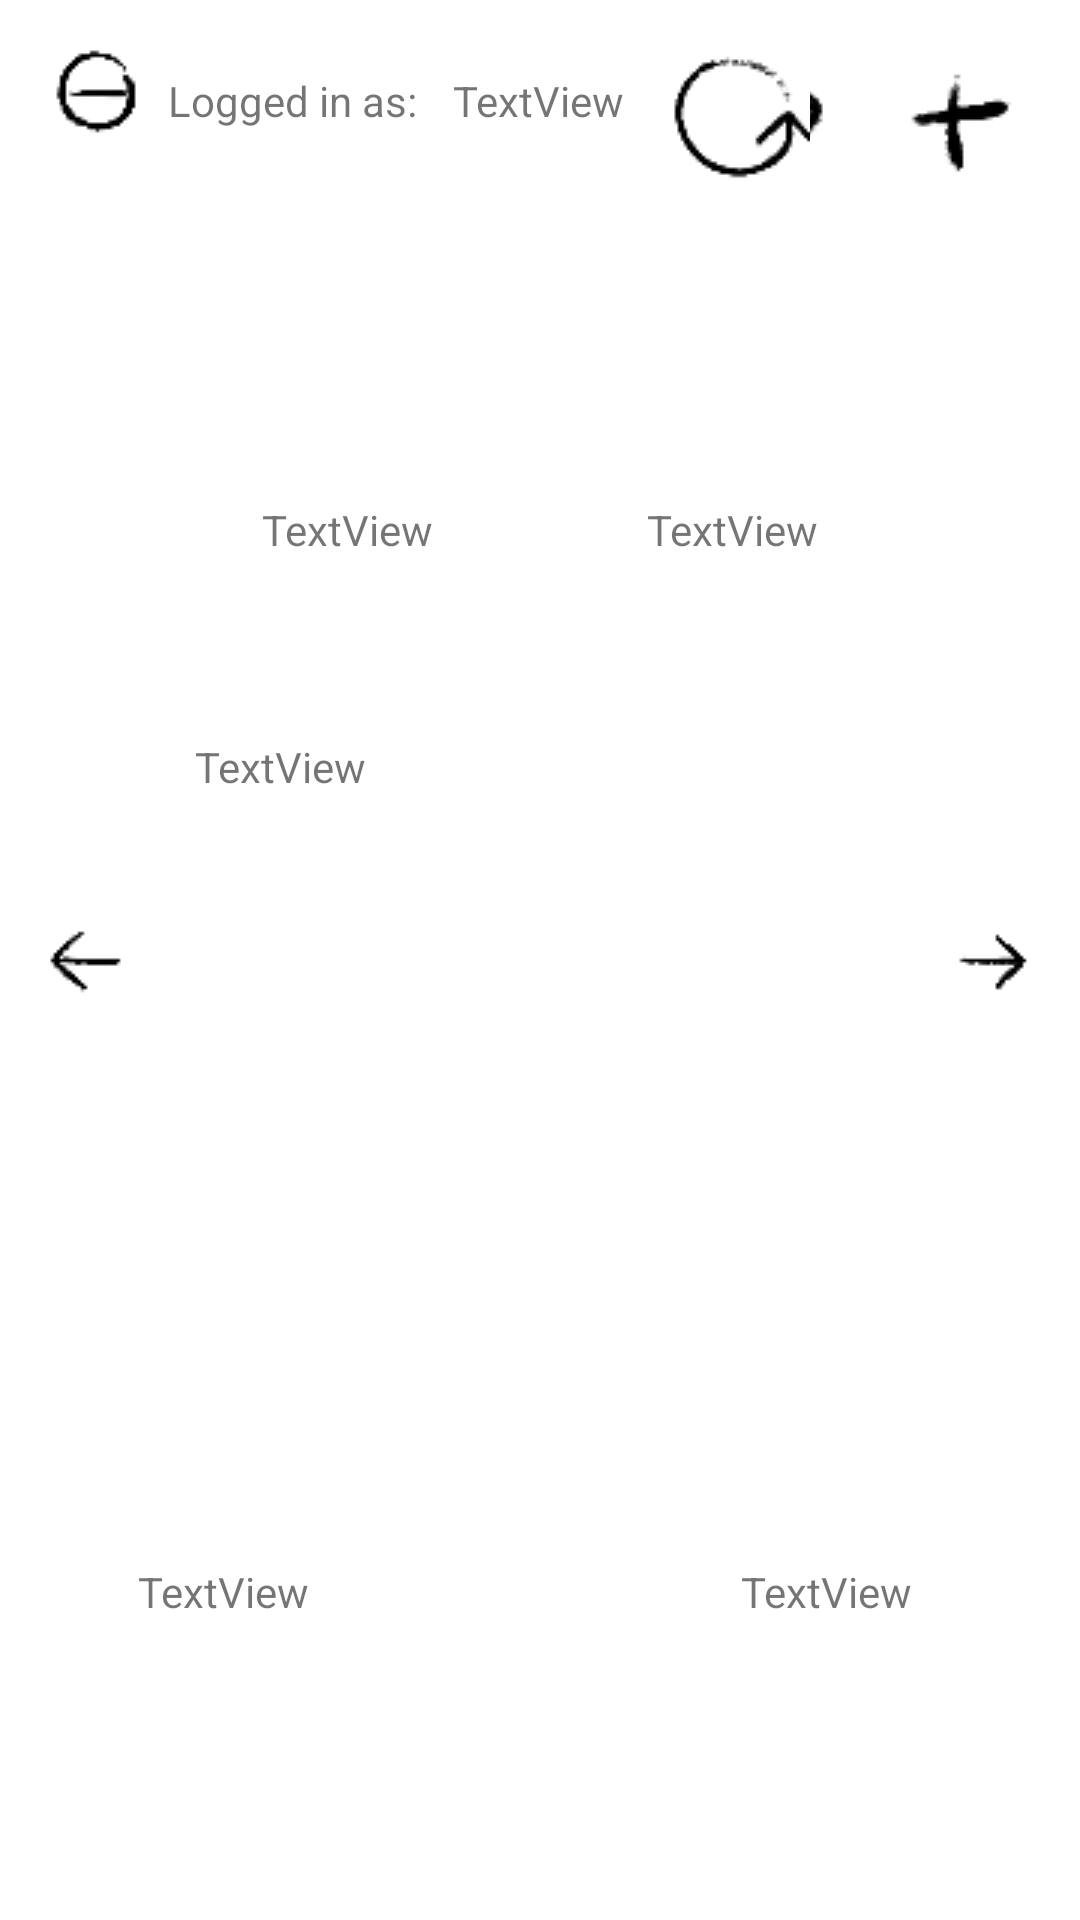

Point at icon controls on the screen. Image size 1080w x 1920h, points as (x,y).
create post: (960,123)
delete account: (96,91)
next post: (993,962)
previous post: (85,961)
refresh: (742,117)
